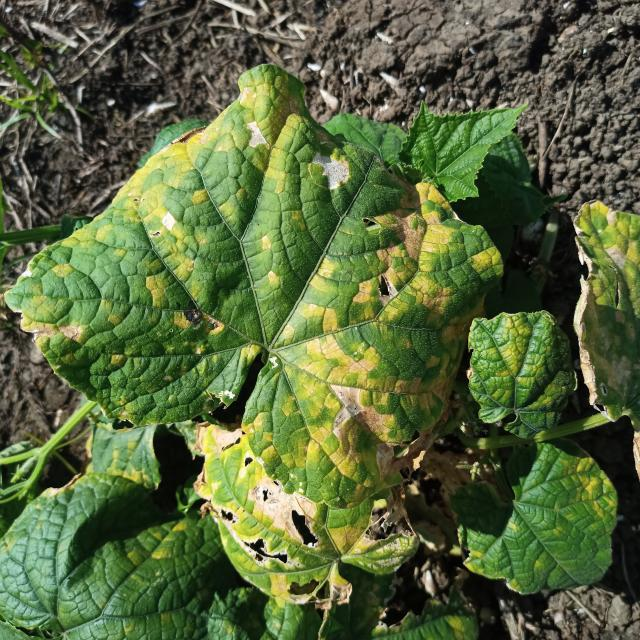disease_cucumber: (38, 67, 478, 585)
